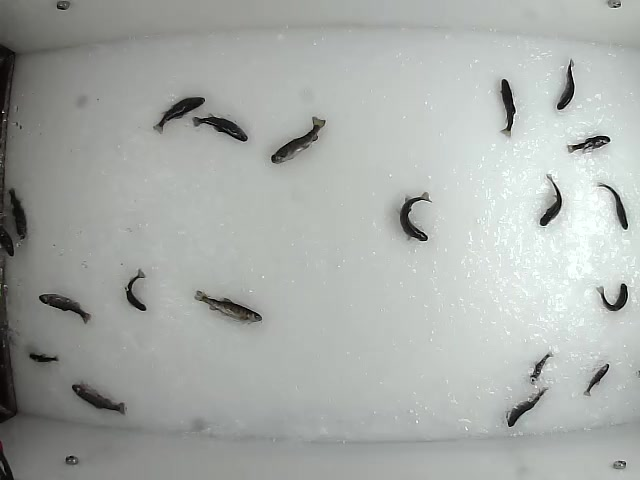fish: (271, 115, 328, 164), (193, 289, 263, 325), (151, 96, 207, 136), (506, 386, 552, 428), (71, 382, 129, 415), (191, 112, 250, 144), (36, 291, 92, 324), (398, 191, 434, 241), (596, 182, 631, 230), (537, 173, 564, 228), (7, 185, 32, 241), (496, 78, 517, 138), (124, 269, 152, 311), (556, 58, 577, 113), (594, 283, 630, 311), (565, 134, 612, 155), (526, 350, 555, 384), (583, 363, 609, 399), (26, 351, 61, 363)
